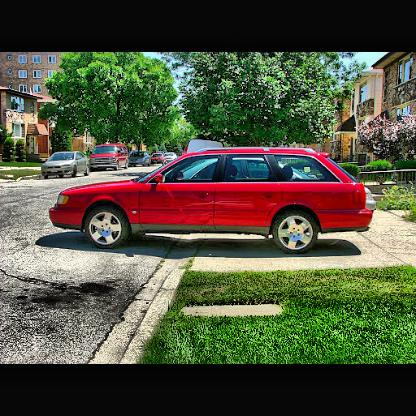Audi 100 Wagon 1994: (52, 147, 379, 255)
